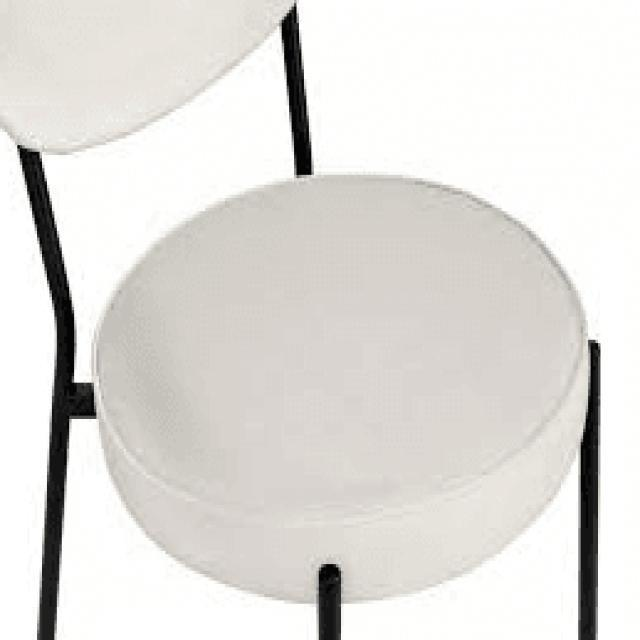chair: (0, 0, 613, 640), (0, 2, 589, 600)
